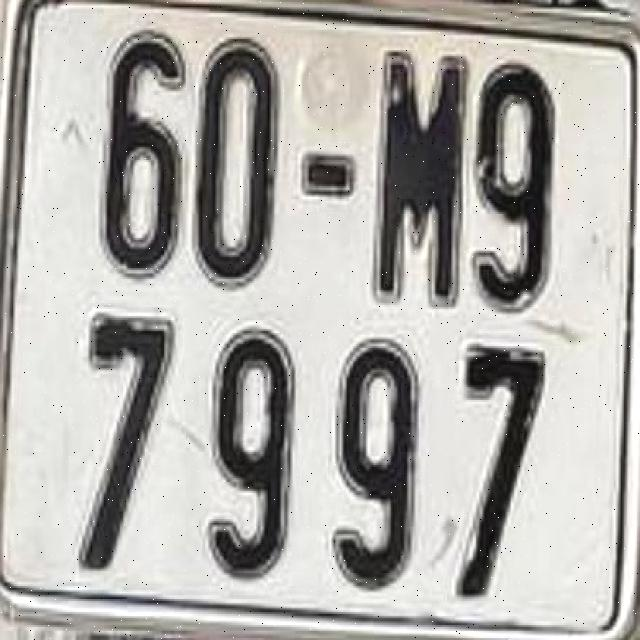0: (191, 34, 284, 286)
6: (96, 28, 188, 277)
7: (67, 305, 176, 579), (448, 338, 549, 604)
9: (196, 319, 300, 583), (321, 331, 424, 597), (468, 58, 560, 312)
M: (369, 41, 466, 305)
